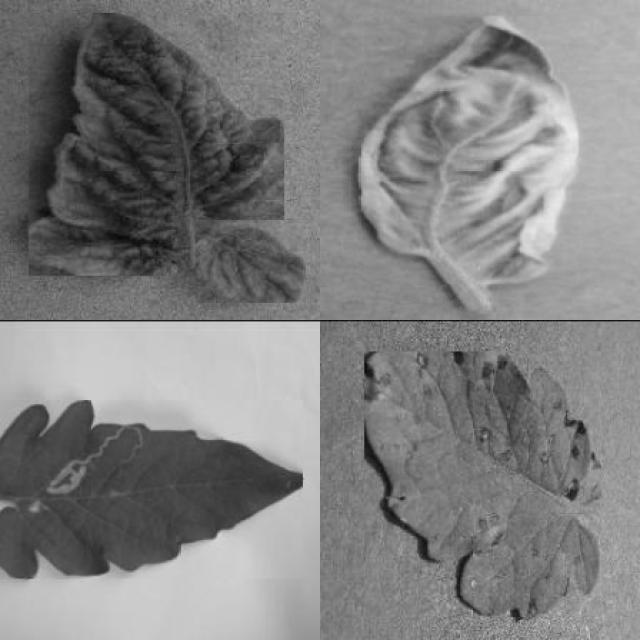Leaf Miner: (0, 400, 303, 579)
Septoria: (365, 352, 602, 617)
Yellow Leaf Curl Virus: (29, 13, 284, 276), (360, 16, 580, 284), (196, 220, 306, 304)
